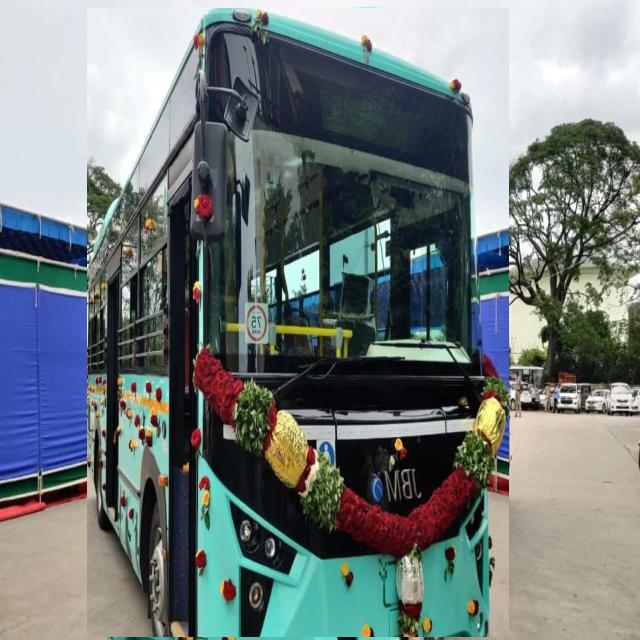bus: (88, 9, 509, 637)
